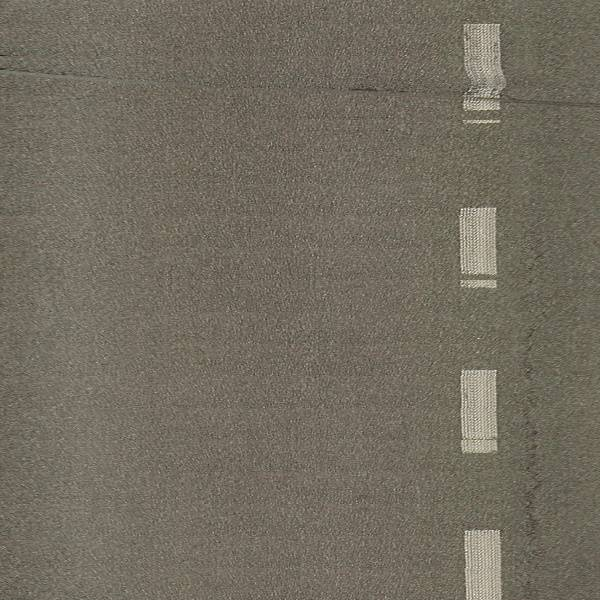road_damage: (1, 61, 600, 108), (517, 327, 549, 558)
